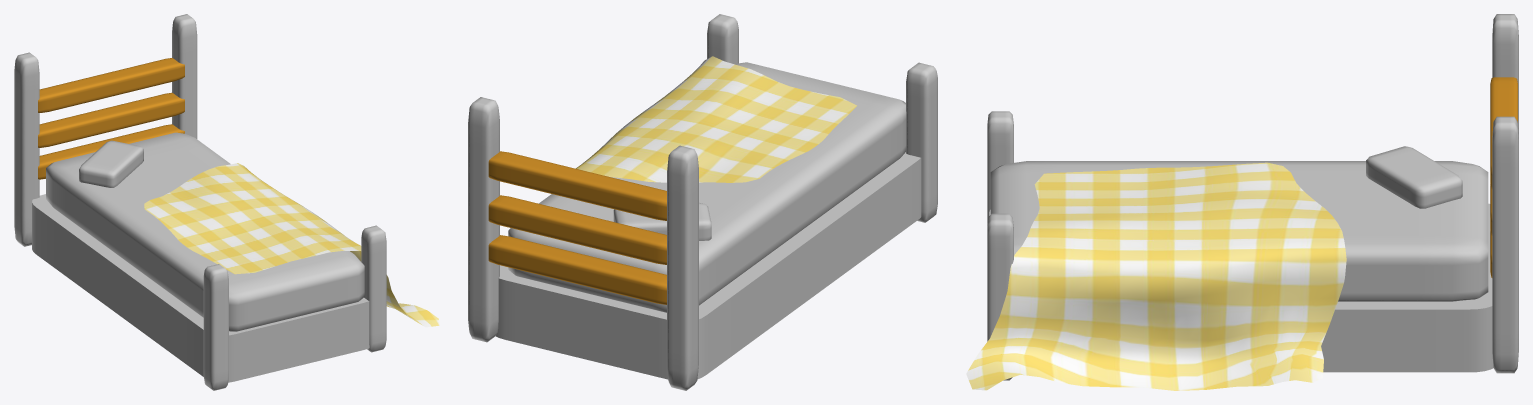
File: Bed.fbx
3 views of the same model, side by side, from view 1: azimuth 30°, elevation 25°; view 2: azimuth 150°, elevation 25°; view 3: azimuth 270°, elevation 25° (orthographic). The views are drawn at different scales.
Visible parts, largest first — view 1: Object001, Plane001, Object002; view 2: Object001, Plane001, Object002; view 3: Plane001, Object001, Object002.
Part boxes in pixels (box(x1,y1,x2,y2)): Object001: box(14, 14, 386, 390); Plane001: box(144, 163, 439, 327); Object002: box(38, 58, 184, 179); Object001: box(468, 14, 937, 390); Plane001: box(576, 56, 856, 182); Object002: box(488, 151, 666, 304); Plane001: box(966, 162, 1346, 390); Object001: box(987, 14, 1518, 380); Object002: box(1490, 77, 1517, 277).
Size of the model in its own units: 119 by 96.88 by 189.
